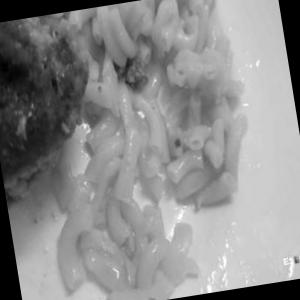pasta: (18, 0, 277, 299)
